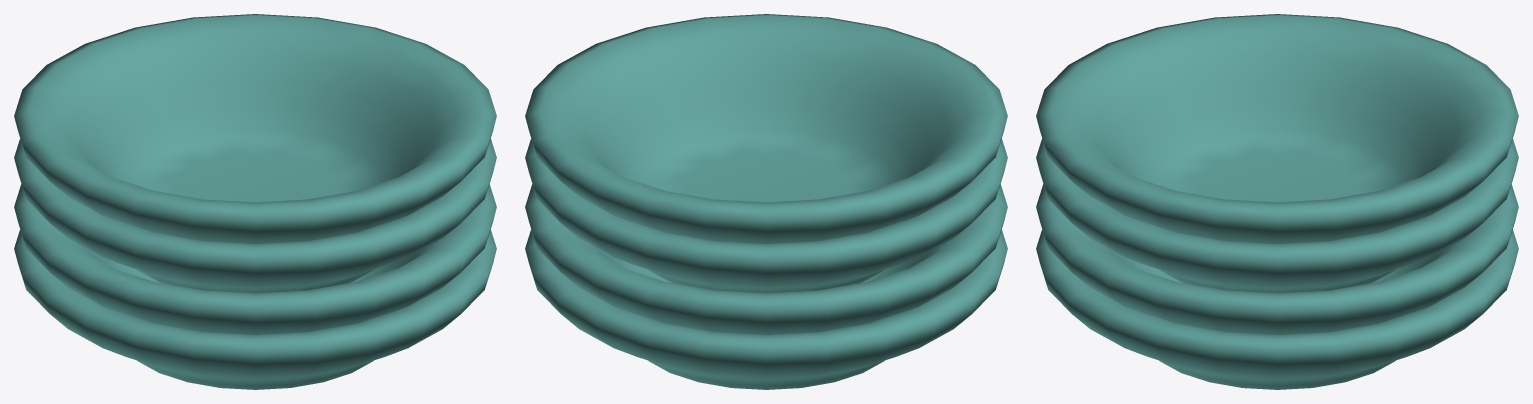
Rendered from 84_plate_stack.glb.
3 renders of one model, left to right at view 1: azimuth 30°, elevation 25°; view 2: azimuth 150°, elevation 25°; view 3: azimuth 270°, elevation 25°, orthographic.
Visible parts, largest first — view 1: Circle.003, Circle, Circle.001, Circle.002; view 2: Circle.003, Circle, Circle.001, Circle.002; view 3: Circle.003, Circle, Circle.001, Circle.002.
Boxes of the visible parts, x1,y1,x2,y2 form: Circle.003: (14,14,496,243); Circle: (14,229,496,389); Circle.001: (14,184,496,334); Circle.002: (14,138,496,293); Circle.003: (525,14,1007,243); Circle: (525,229,1007,389); Circle.001: (525,184,1007,334); Circle.002: (525,138,1007,293); Circle.003: (1036,14,1518,243); Circle: (1036,229,1518,389); Circle.001: (1036,184,1518,334); Circle.002: (1036,138,1518,293).
Size of the model in its own units: 0.5041 by 0.2573 by 0.5041.
